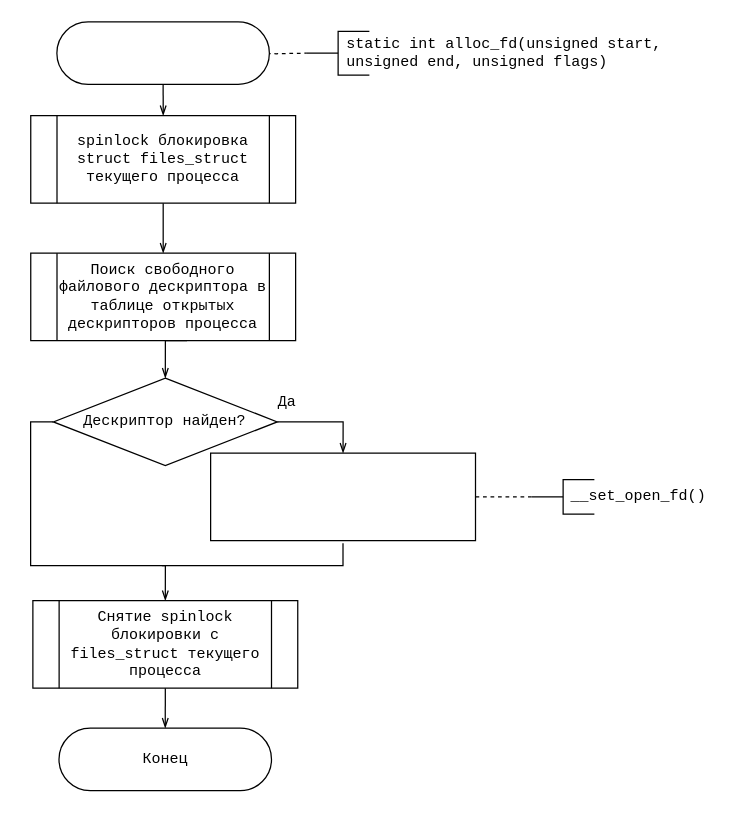
The diagram is 735 pixels wide and 813 high, and some of its shapes have lost their labels. Here are the shapes that lost their labels. From the top down, the centre of each, then its label:
the point at 162,52: Начало
the point at 342,496: Пометка дескриптора как занятого
